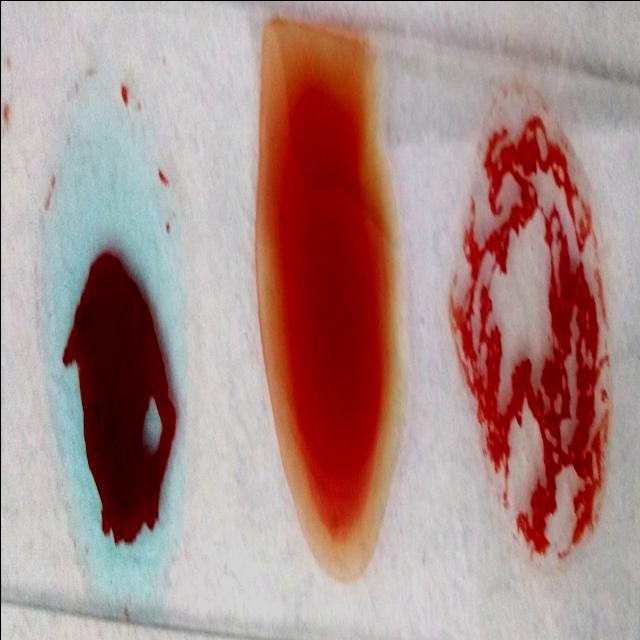A: (46, 104, 178, 592)
D: (466, 112, 611, 562)
